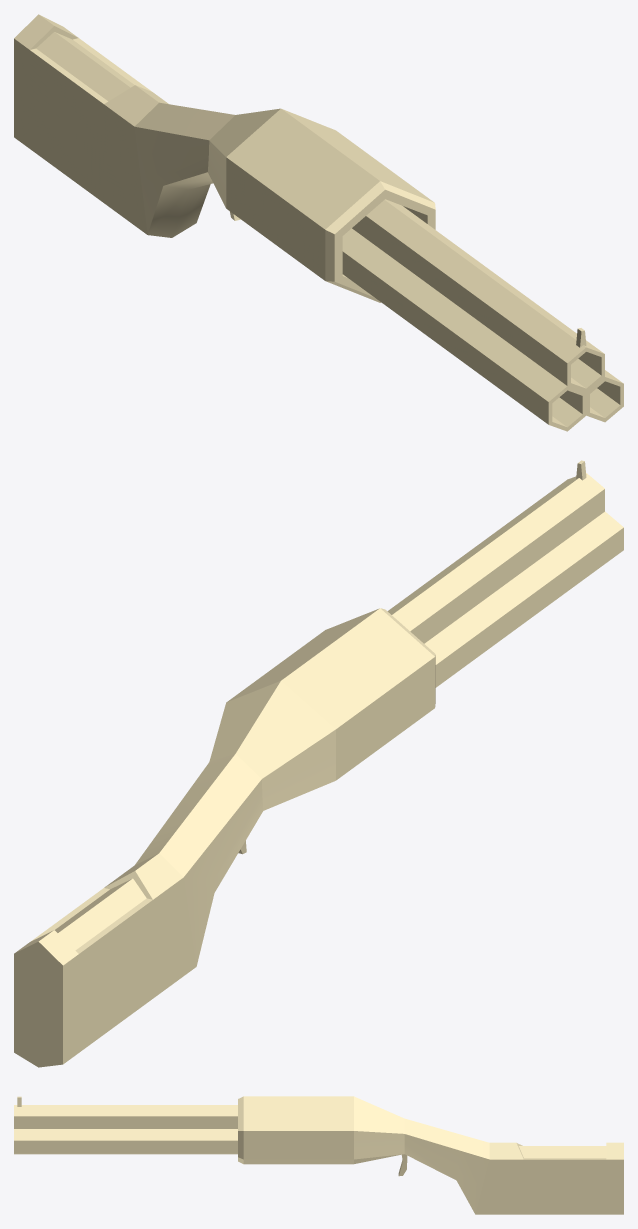
The model's file is Shotgun.fbx.
3 renders of one model, top to bottom at view 1: azimuth 30°, elevation 25°; view 2: azimuth 150°, elevation 25°; view 3: azimuth 270°, elevation 25°, orthographic. The views are drawn at different scales.
Parts seen in each view (by area): view 1: Shotgun; view 2: Shotgun; view 3: Shotgun.
Boxes of the visible parts, x1,y1,x2,y2 form: Shotgun: (14, 14, 623, 431); Shotgun: (14, 460, 623, 1067); Shotgun: (14, 1096, 623, 1214).
Bounding box in the file's own units: 1.4 × 2.55 × 12.09.
